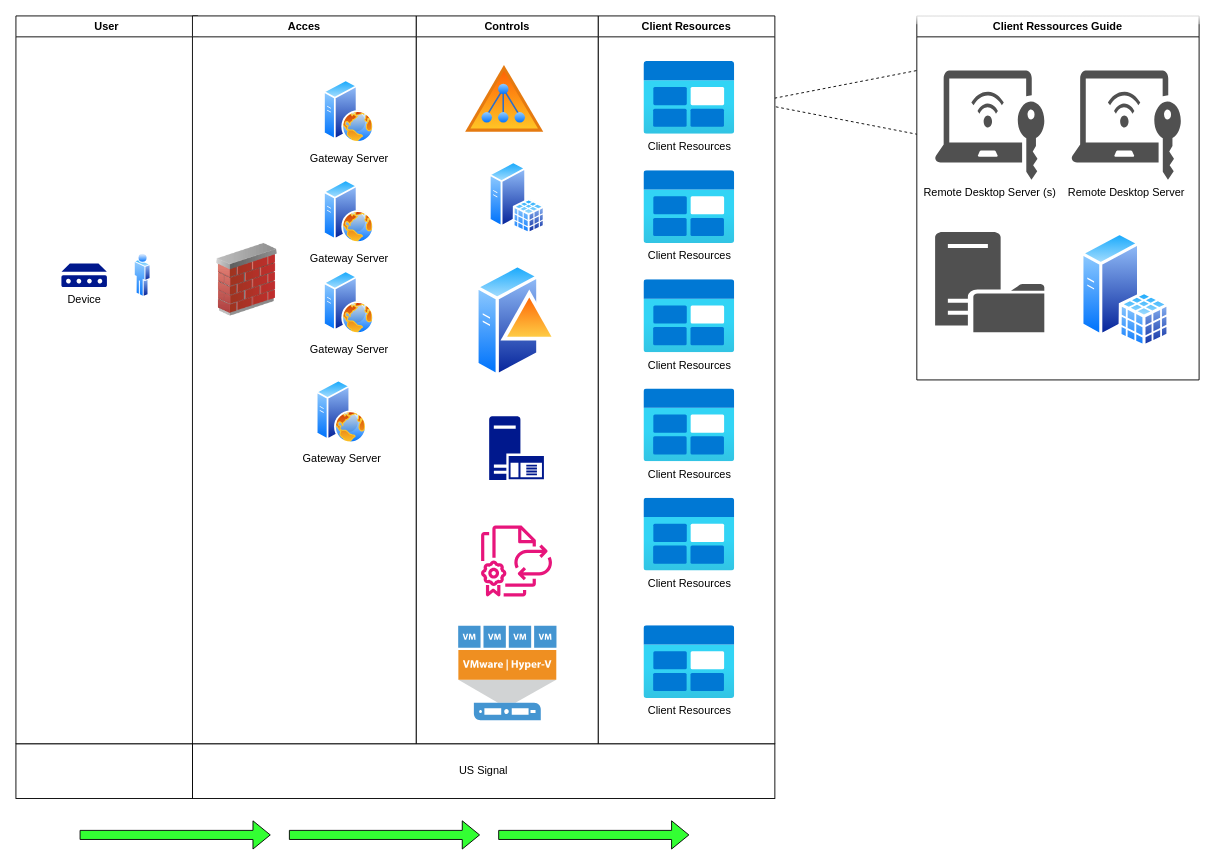
The diagram is 1216 pixels wide and 865 high, and some of its shapes have lost their labels. The centre of each missing label's shape, as x and y in pixels:
Active Directory: the point at 504,97
Atria: the point at 516,448
Client: the point at 142,275
Domain Controlers: the point at 516,320
File Server: the point at 989,282
Licenses: the point at 516,560
Remote Locations: the point at 103,771
SQL: the point at 517,197
SQL - optional: the point at 1125,290
